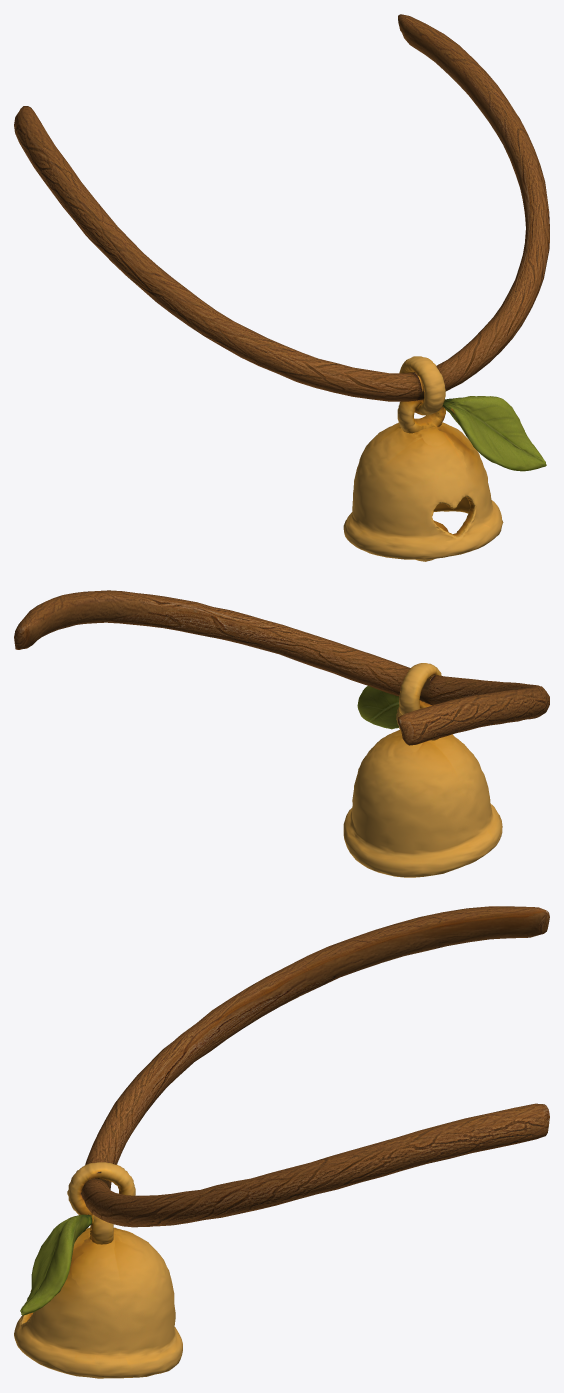
Rendered from mem_ac_bell.fbx.
3 views of the same model, one above another, from view 1: azimuth 30°, elevation 25°; view 2: azimuth 150°, elevation 25°; view 3: azimuth 270°, elevation 25° (orthographic). The views are drawn at different scales.
Parts seen in each view (by area): view 1: tripo_node_5db174a4; view 2: tripo_node_5db174a4; view 3: tripo_node_5db174a4.
Boxes of the visible parts, x1,y1,x2,y2 form: tripo_node_5db174a4: (14, 14, 549, 561); tripo_node_5db174a4: (14, 590, 549, 877); tripo_node_5db174a4: (14, 906, 549, 1378).
Size of the model in its own units: 0.998 by 0.7559 by 0.998.
